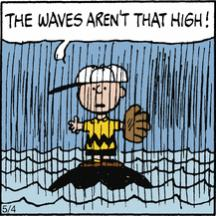charlie: (67, 62, 151, 168)
